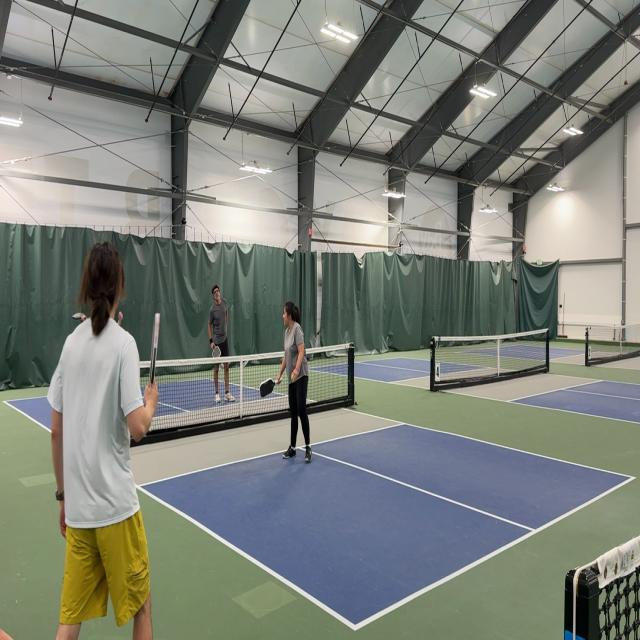ball: (290, 373, 297, 384)
